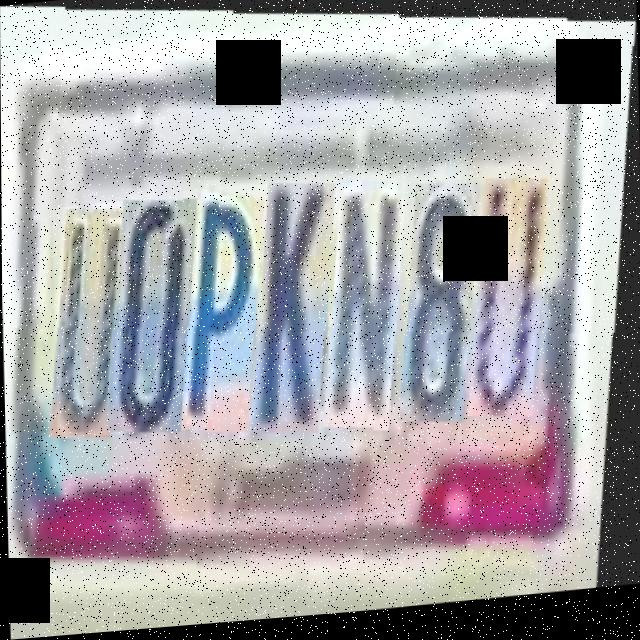0: (108, 192, 204, 436)
8: (400, 170, 486, 417)
K: (252, 172, 342, 433)
N: (324, 169, 412, 426)
P: (182, 187, 271, 432)
U: (469, 163, 555, 411), (51, 202, 133, 440)
